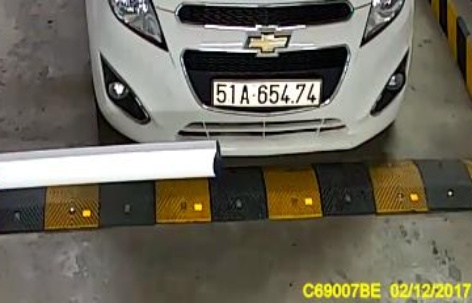plate: (213, 77, 323, 110)
